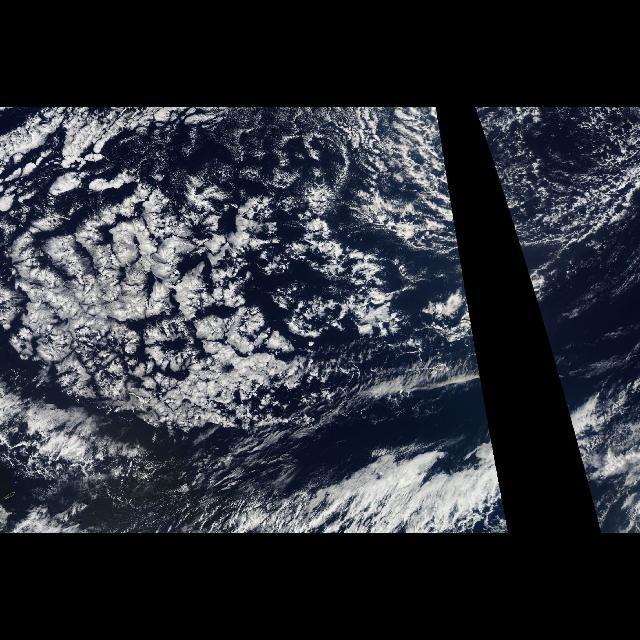Flower: (3, 120, 401, 440)
Gravel: (474, 107, 640, 289), (312, 107, 466, 289)
